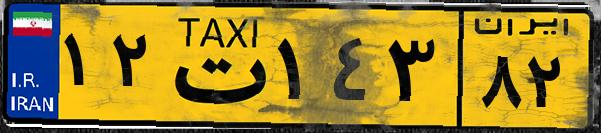1: (270, 28, 330, 110), (57, 26, 110, 100)
2: (525, 38, 570, 115), (110, 28, 158, 98)
3: (385, 28, 445, 110)
4: (330, 28, 385, 110)
8: (475, 38, 525, 113)
ت: (158, 12, 270, 120)
